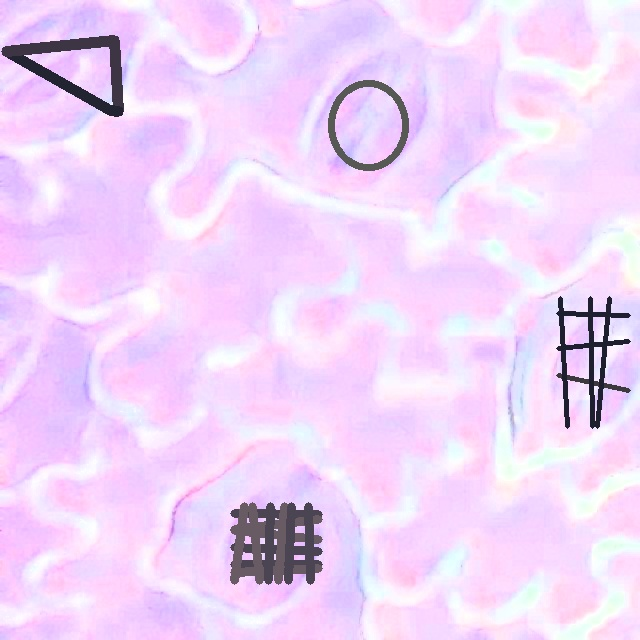open: (1, 36, 122, 115), (557, 296, 629, 427), (327, 79, 409, 170), (231, 502, 321, 583)
